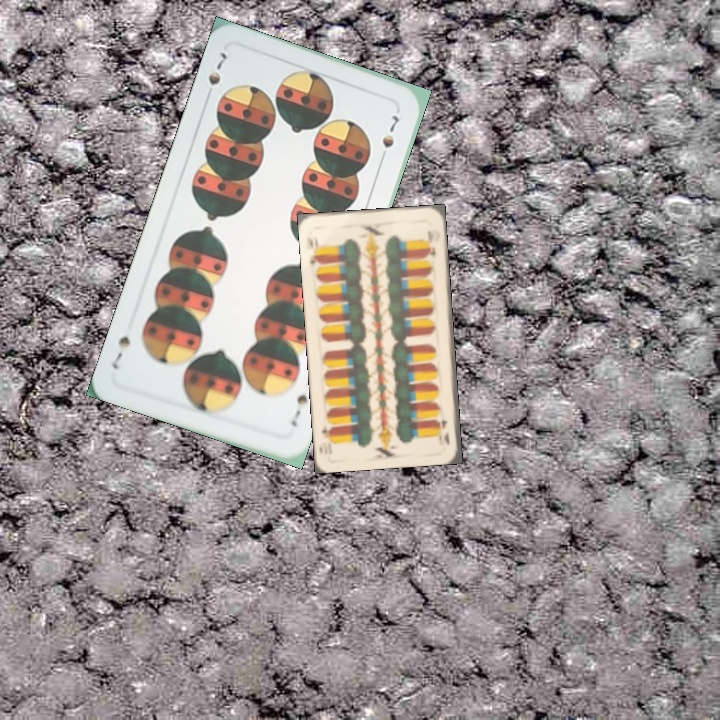E10: (303, 233, 323, 267), (435, 414, 452, 447)
S7: (201, 47, 230, 103), (287, 388, 310, 430)
